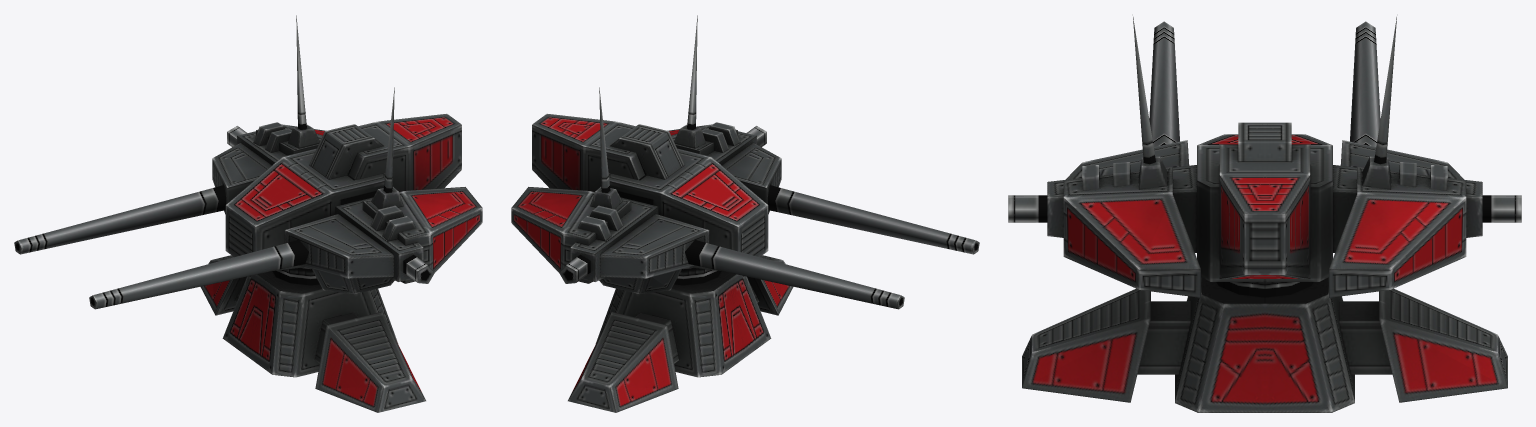
File: Sentry1.fbx
3 views of the same model, side by side, from view 1: azimuth 30°, elevation 25°; view 2: azimuth 150°, elevation 25°; view 3: azimuth 270°, elevation 25° (orthographic). The views are drawn at different scales.
Parts seen in each view (by area): view 1: turret_2_1, turret_2_b, turret_2_t, turret_2_0; view 2: turret_2_0, turret_2_b, turret_2_t, turret_2_1; view 3: turret_2_b, turret_2_0, turret_2_1, turret_2_t.
Boxes of the visible parts, x1,y1,x2,y2 form: turret_2_1: (89, 87, 482, 309); turret_2_b: (200, 255, 425, 412); turret_2_t: (225, 113, 461, 285); turret_2_0: (14, 15, 326, 254); turret_2_0: (511, 87, 904, 309); turret_2_b: (568, 255, 793, 412); turret_2_t: (532, 113, 768, 285); turret_2_1: (667, 15, 979, 254); turret_2_b: (1022, 277, 1507, 412); turret_2_0: (1329, 17, 1521, 297); turret_2_1: (1008, 17, 1200, 297); turret_2_t: (1197, 122, 1332, 297).
Size of the model in its own units: 174 by 118 by 144.
